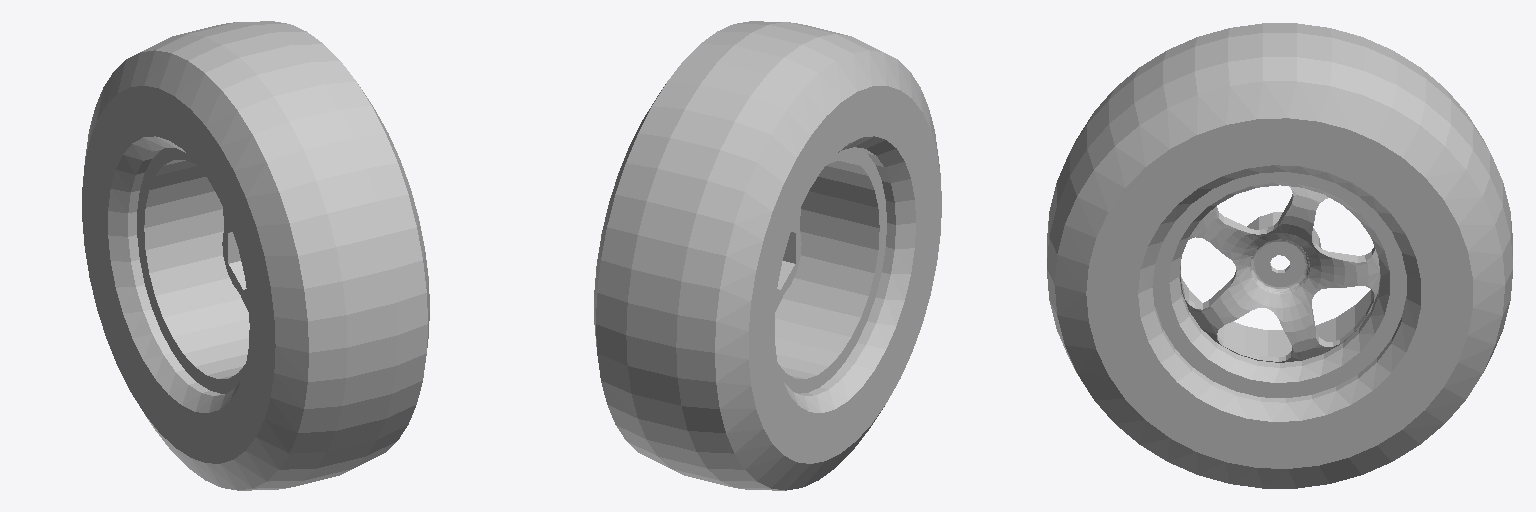
File: wheel_a.obj
3 renders of one model, left to right at view 1: azimuth 30°, elevation 25°; view 2: azimuth 150°, elevation 25°; view 3: azimuth 270°, elevation 25°, orthographic.
Visible parts, largest first — view 1: Wheel_(used_on_production_RbXL)_v5; view 2: Wheel_(used_on_production_RbXL)_v5; view 3: Wheel_(used_on_production_RbXL)_v5.
Part boxes in pixels (bbox=[...]): Wheel_(used_on_production_RbXL)_v5: bbox=[82, 21, 429, 490]; Wheel_(used_on_production_RbXL)_v5: bbox=[594, 21, 941, 490]; Wheel_(used_on_production_RbXL)_v5: bbox=[1047, 23, 1512, 488].
Size of the model in its own units: 0.0363 by 0.0947 by 0.0949.